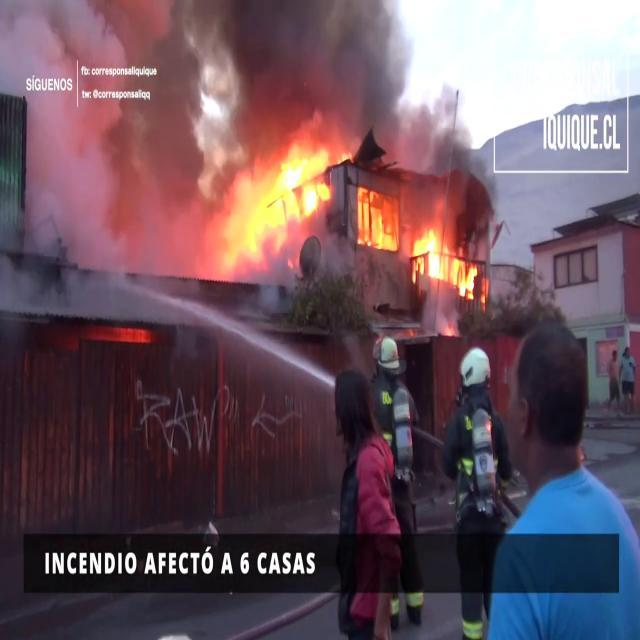Fire: (202, 134, 339, 272), (408, 218, 482, 298), (356, 182, 402, 256)
Smoke: (5, 0, 491, 268)
